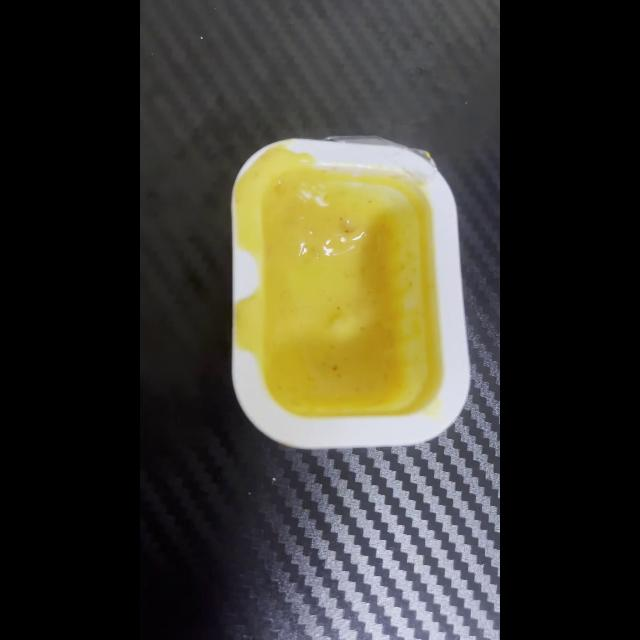dirty: (232, 132, 472, 446)
